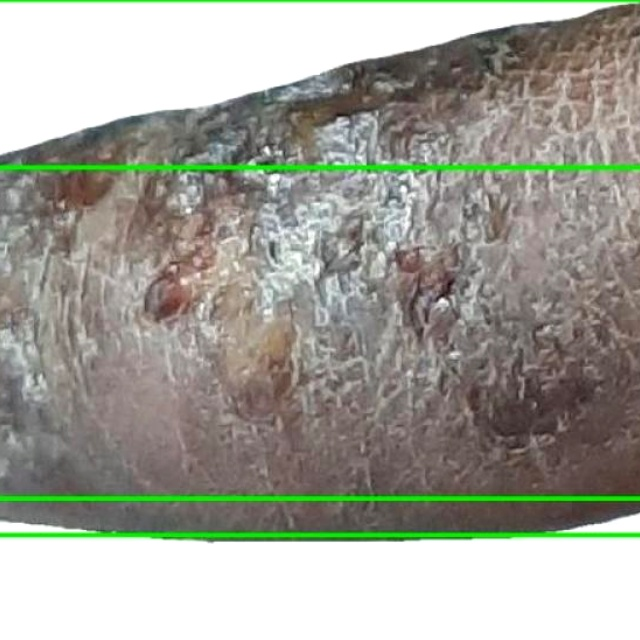Eczema: (0, 0, 639, 536), (0, 0, 639, 167), (0, 499, 639, 639)
